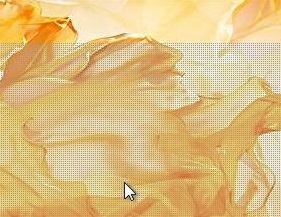cursor: (122, 180, 137, 203)
